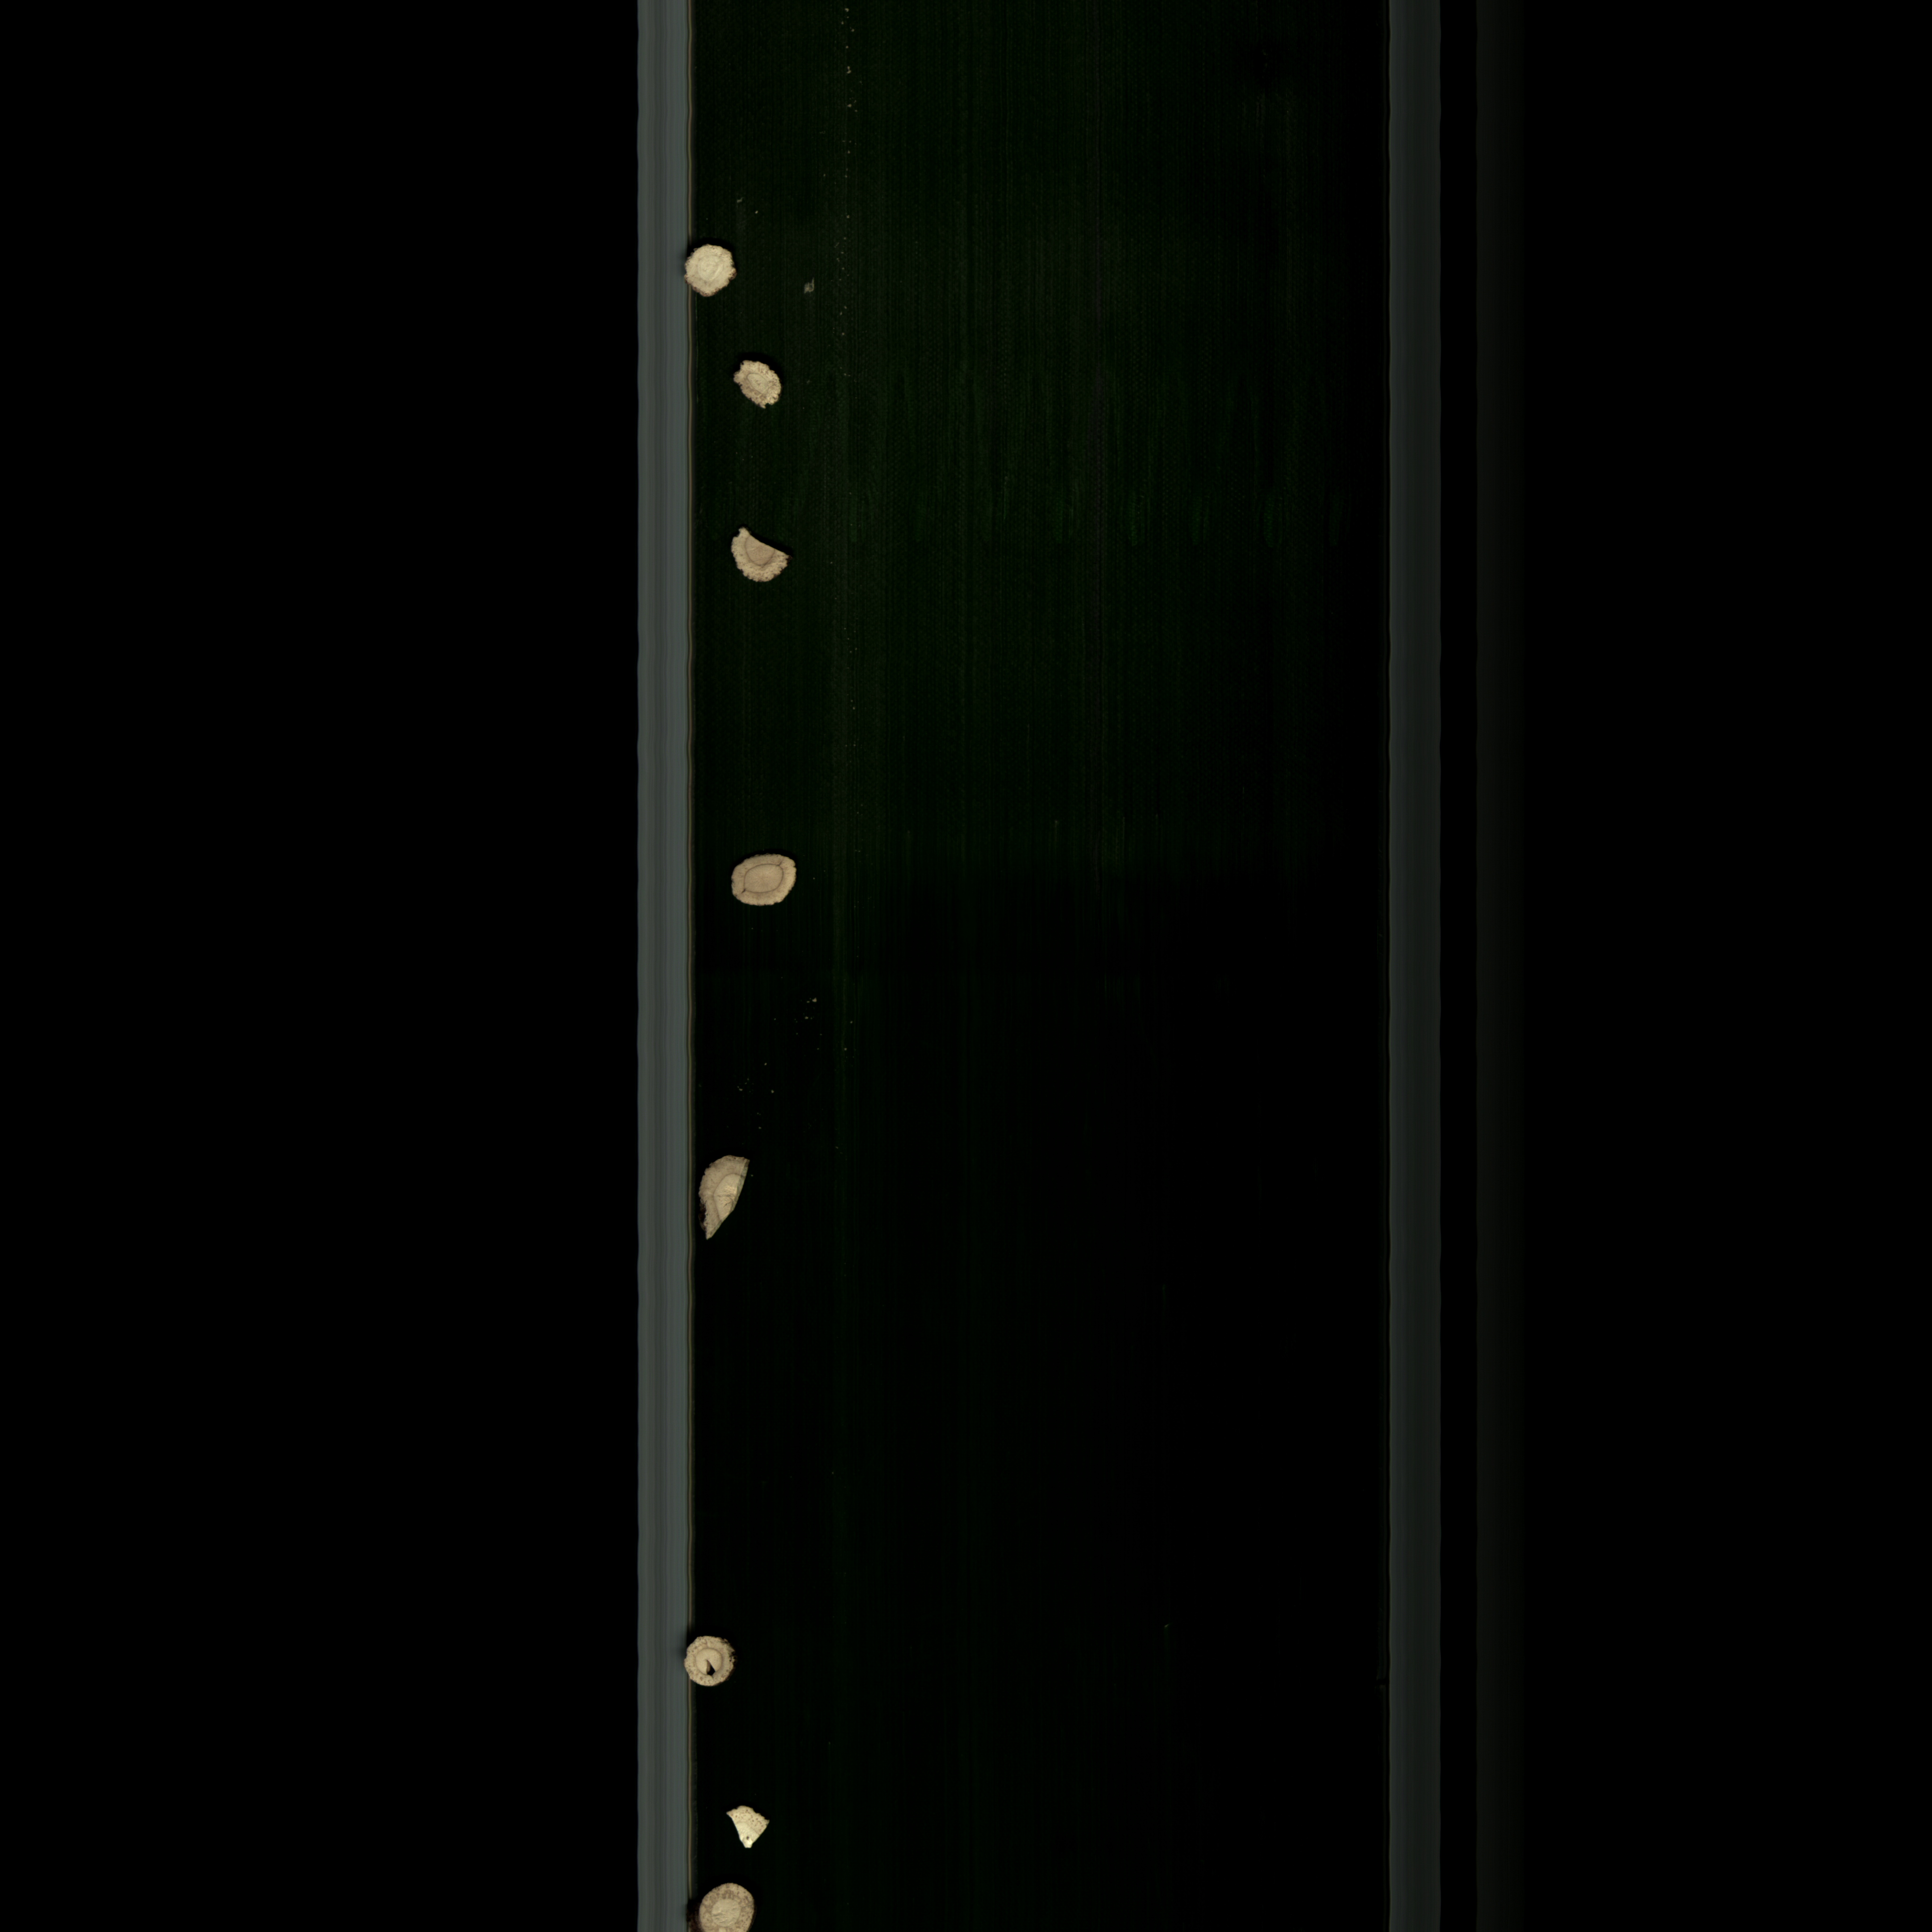debris: (699, 1148, 763, 1244), (725, 522, 805, 593)
distortion: (725, 354, 787, 419)
dreg: (718, 1798, 780, 1859)
hole: (683, 1628, 747, 1697)
